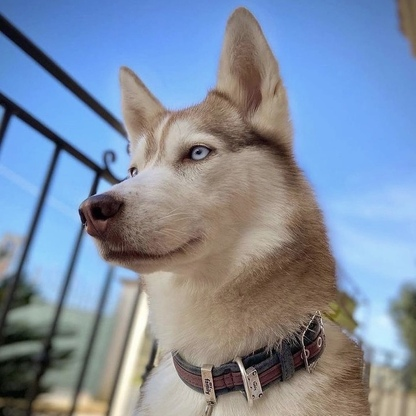husky: (72, 3, 382, 416)
